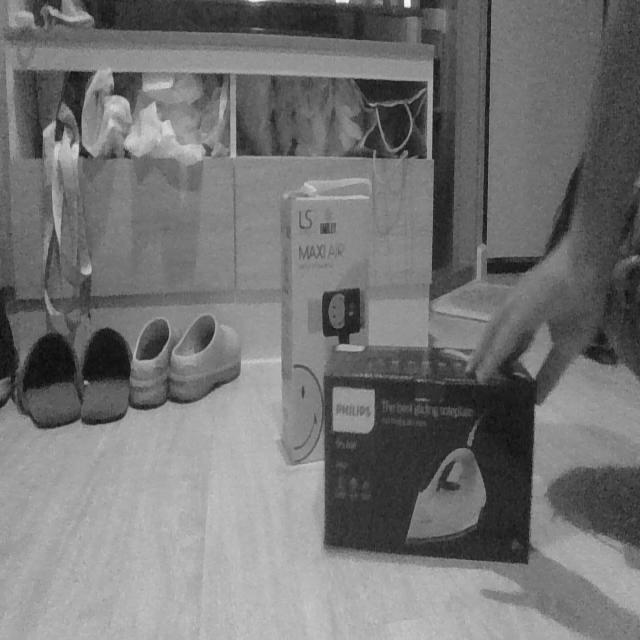Dryer: (277, 175, 375, 465)
IRON: (320, 340, 538, 568)
